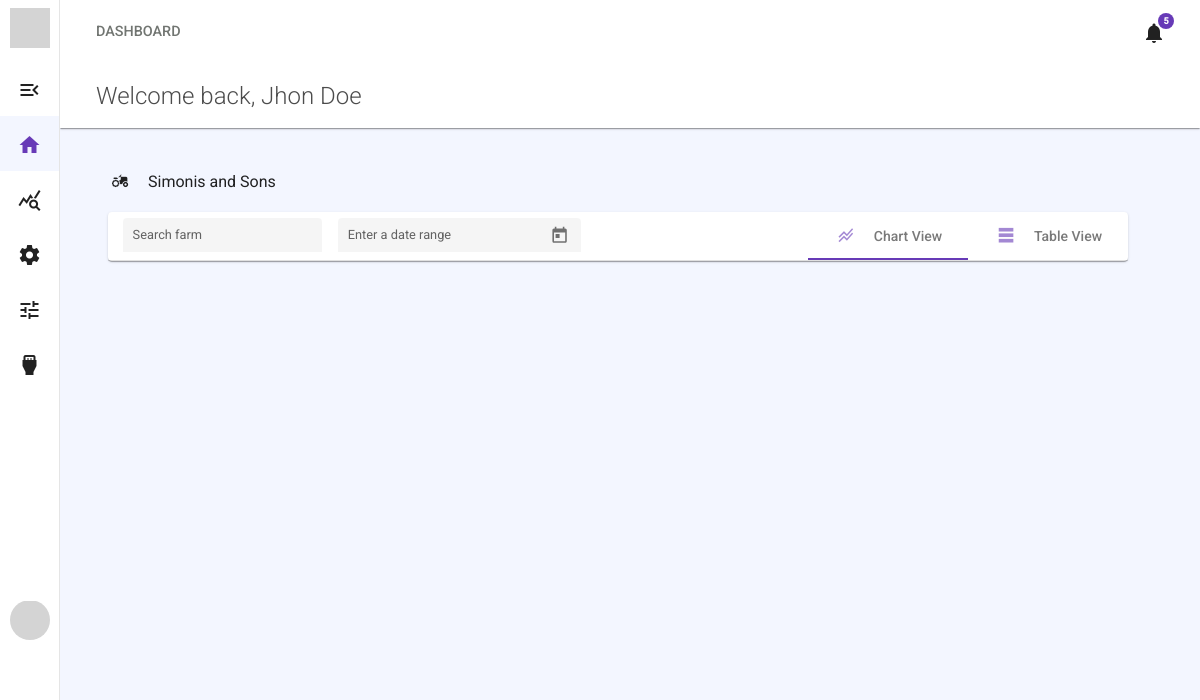
Test case: test farm dashboard component › [farm]/filters › page display on medium desk screen › while typing on the autocomplete input, a dropdown farm list should appear
The width and height of the screenshot is (1200, 700).
In the dropdown labelled "Search farm": (223, 241) [133, 234, 313, 248], type "d"
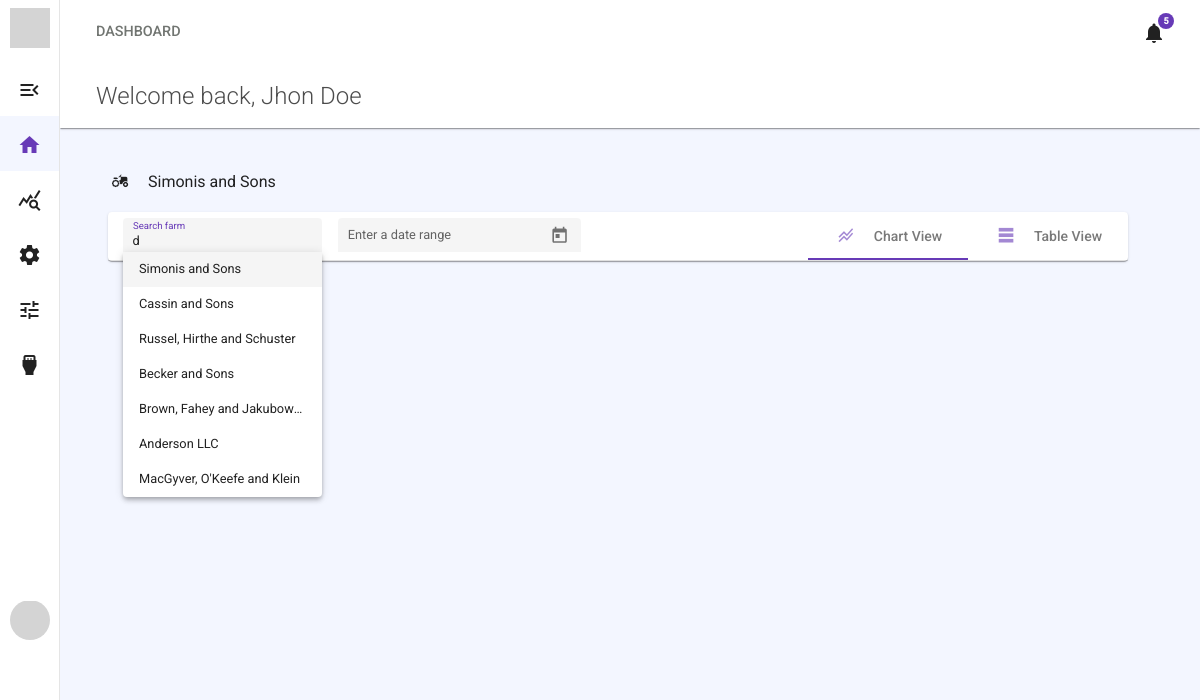
expect the 2nd list is shown: met, box [123, 252, 322, 497]
